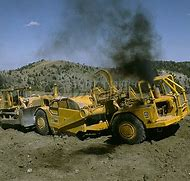smoke: (77, 1, 161, 77)
